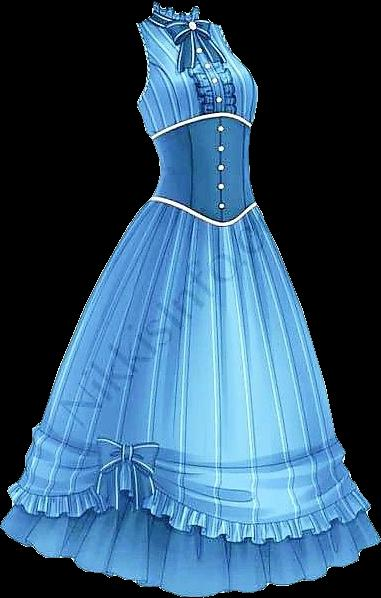Bodice: (136, 2, 257, 227)
Hemline: (0, 524, 380, 597), (5, 479, 368, 539)
Neckline: (149, 110, 253, 140), (152, 0, 200, 17)
Skirt: (1, 197, 380, 596)
Waistline: (145, 198, 259, 232)
